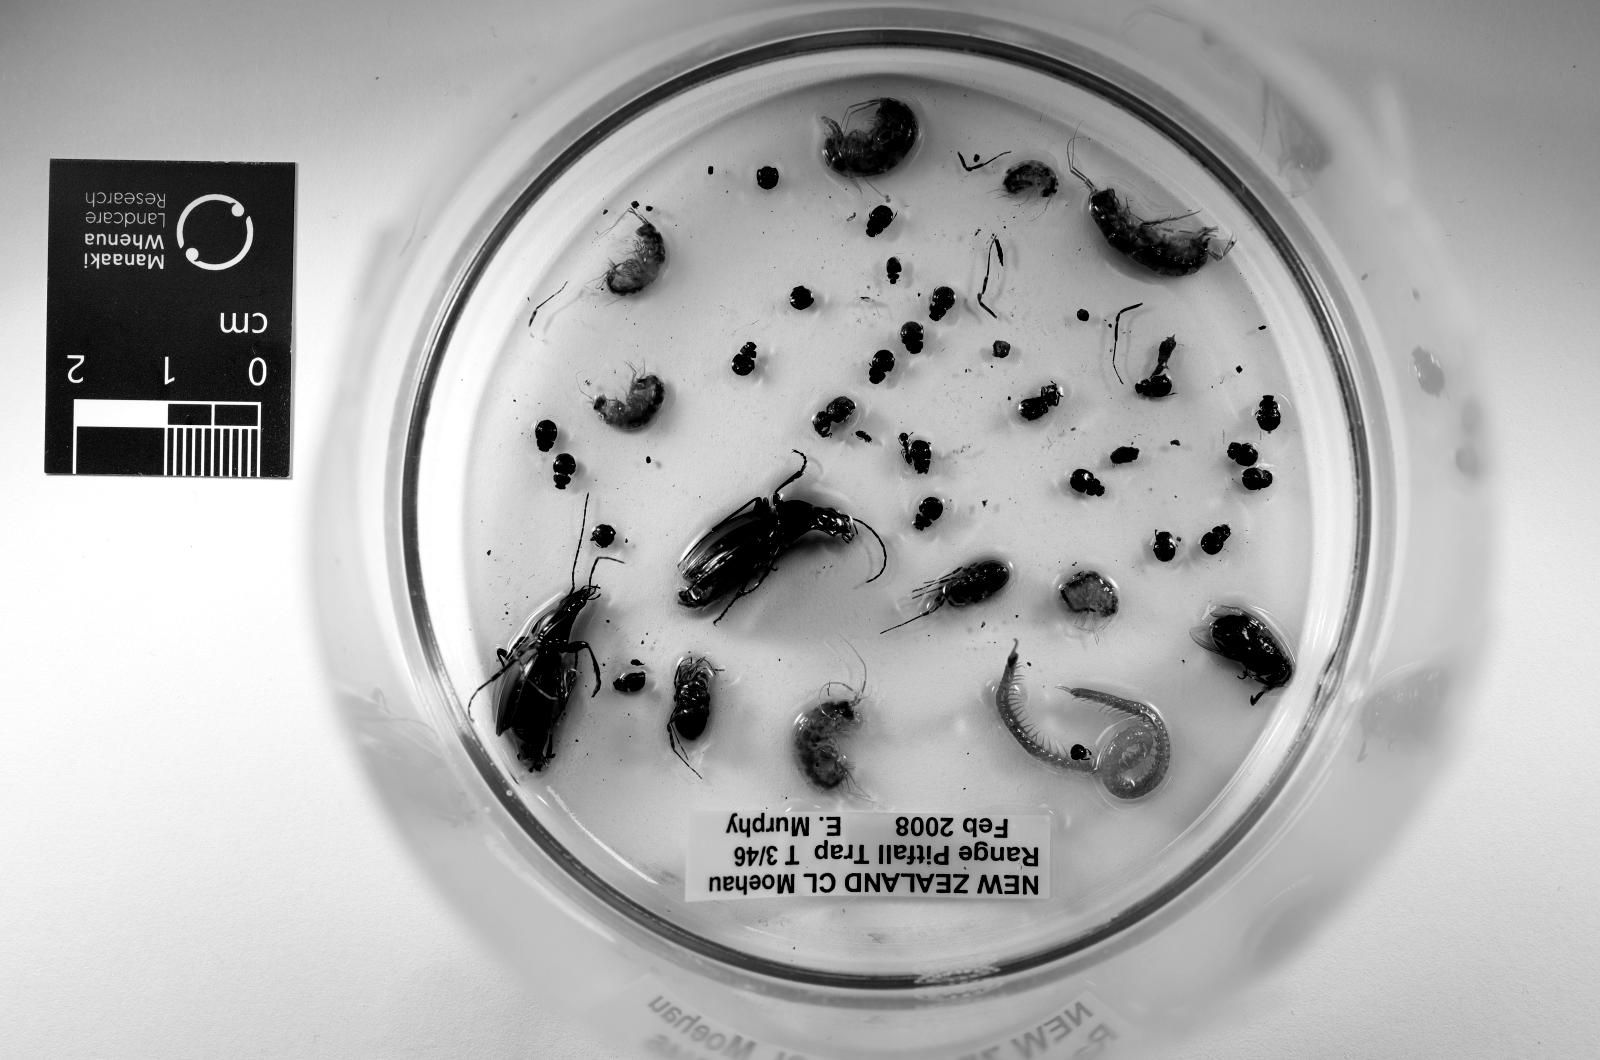amphipoda: (1069, 155, 1234, 276), (825, 99, 919, 177), (794, 696, 859, 792), (588, 370, 666, 429), (606, 220, 666, 295), (1059, 571, 1119, 630), (1003, 161, 1056, 199)
carabidae: (678, 450, 859, 624), (488, 584, 600, 773)
chilopoda: (997, 640, 1094, 773), (1069, 689, 1172, 801)
coleoptera: (812, 398, 856, 438), (1019, 382, 1062, 419), (912, 497, 944, 531), (1069, 469, 1106, 497), (1200, 525, 1231, 556), (928, 286, 956, 320), (1134, 373, 1172, 398), (1256, 394, 1281, 432), (553, 453, 578, 491), (866, 205, 894, 236), (869, 351, 894, 385), (731, 342, 756, 376), (906, 441, 931, 475), (534, 419, 559, 453), (900, 323, 925, 354), (1228, 441, 1259, 466), (1244, 466, 1275, 491), (1153, 531, 1178, 562), (612, 671, 647, 693), (888, 258, 903, 283)
diptera: (1191, 602, 1294, 705), (853, 429, 872, 444)
formicidae: (897, 432, 912, 466)
opiliones: (912, 562, 1009, 618), (669, 655, 716, 755)
